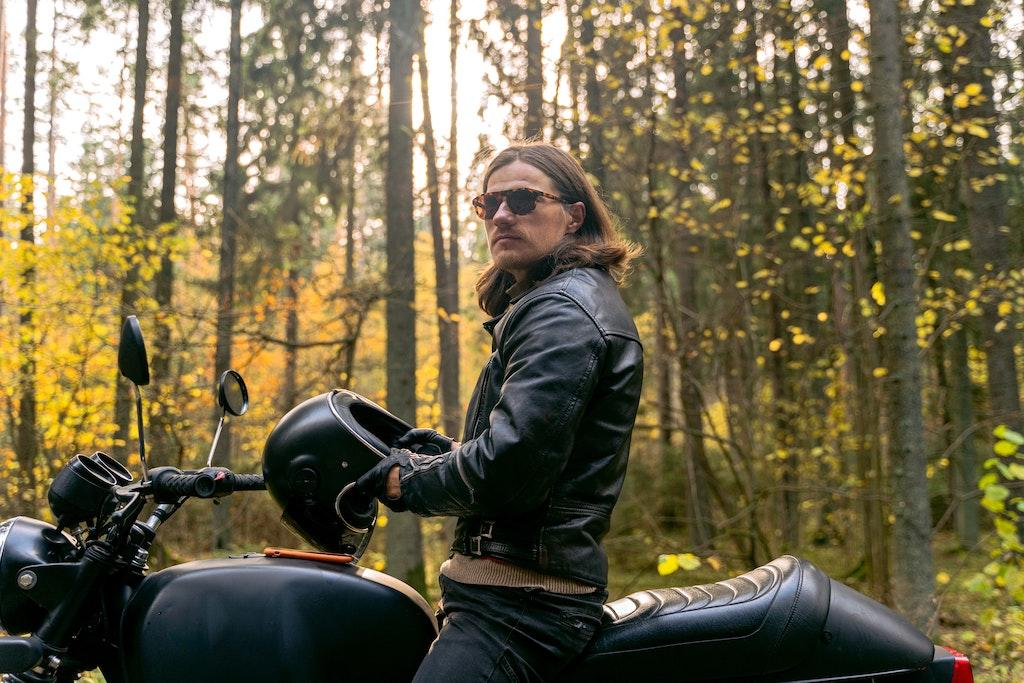helmet: (261, 387, 444, 570)
nohelmet: (471, 141, 620, 316)
